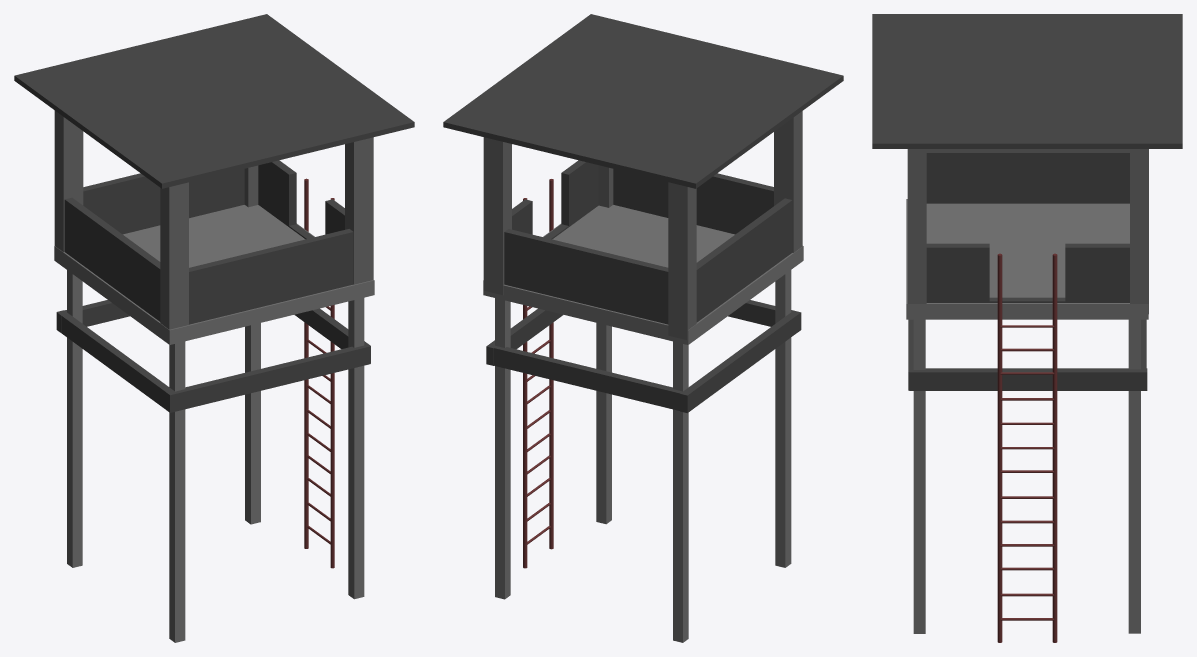
The model's file is Watchtower.fbx.
The picture shows the model from 3 angles, left to right: view 1: azimuth 30°, elevation 25°; view 2: azimuth 150°, elevation 25°; view 3: azimuth 270°, elevation 25°; orthographic projection. The views are drawn at different scales.
Parts seen in each view (by area): view 1: polySurface37; view 2: polySurface37; view 3: polySurface37.
Boxes of the visible parts, x1,y1,x2,y2 form: polySurface37: [14, 14, 414, 642]; polySurface37: [443, 14, 843, 642]; polySurface37: [872, 14, 1182, 642].
Bounding box in the file's own units: 14.18 × 26 × 14.36.
